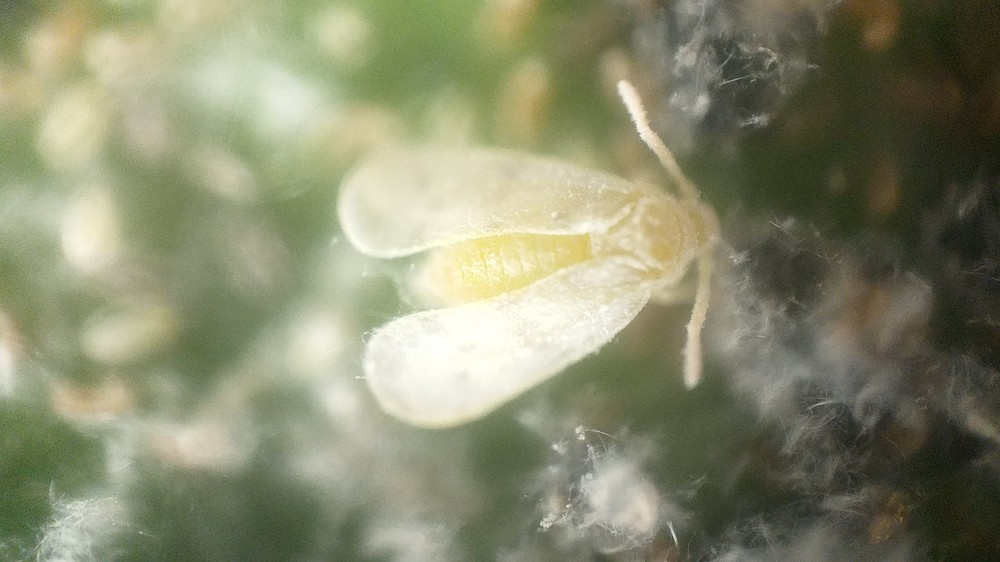Mosca Blanca: (318, 68, 752, 428)
